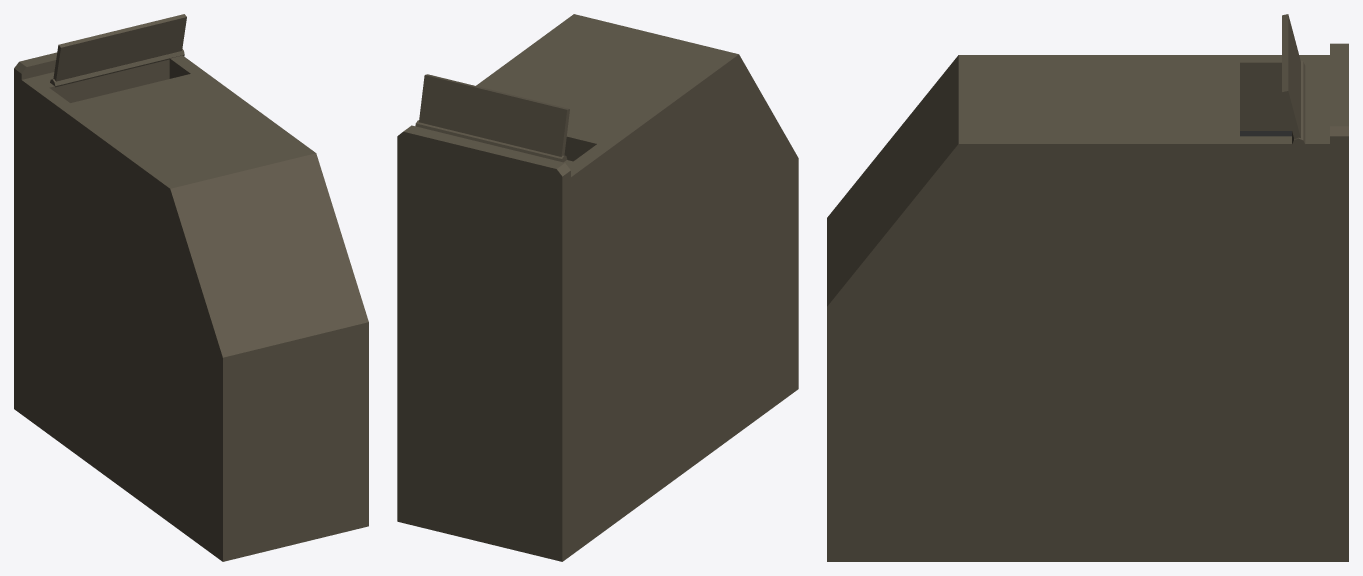
File: LMG2_01_2.fbx
The picture shows the model from 3 angles, left to right: view 1: azimuth 30°, elevation 25°; view 2: azimuth 150°, elevation 25°; view 3: azimuth 270°, elevation 25°; orthographic projection. The views are drawn at different scales.
Parts seen in each view (by area): view 1: LMG2_01_2; view 2: LMG2_01_2; view 3: LMG2_01_2.
Part boxes in pixels (x1,y1,x2,y2): LMG2_01_2: (14,14,368,561); LMG2_01_2: (397,14,798,561); LMG2_01_2: (827,14,1348,561).
Size of the model in its own units: 0.0813 by 0.1981 by 0.1989.
